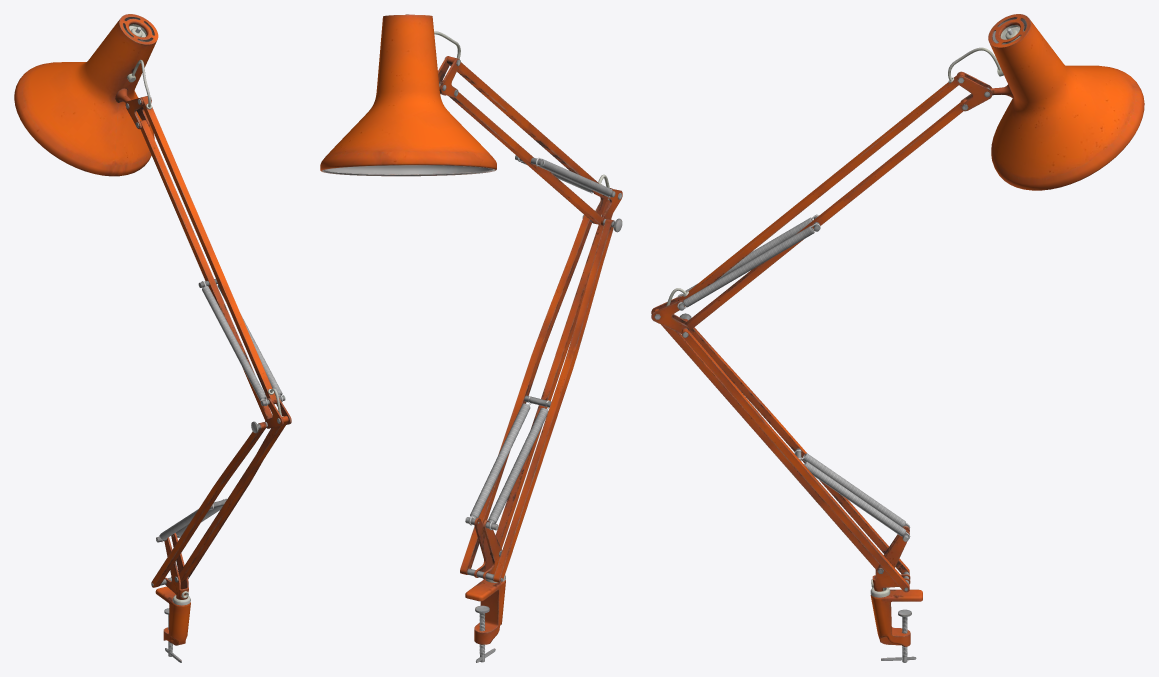
The model's file is desk_lamp_arm_01.gltf.
The picture shows the model from 3 angles, left to right: view 1: azimuth 30°, elevation 25°; view 2: azimuth 150°, elevation 25°; view 3: azimuth 270°, elevation 25°; orthographic projection. The views are drawn at different scales.
Parts seen in each view (by area): view 1: desk_lamp_arm_01; view 2: desk_lamp_arm_01; view 3: desk_lamp_arm_01.
Boxes of the visible parts, bbox=[...] form: desk_lamp_arm_01: bbox=[14, 14, 291, 662]; desk_lamp_arm_01: bbox=[320, 14, 622, 662]; desk_lamp_arm_01: bbox=[651, 14, 1144, 662].
Bounding box in the file's own units: 0.2017 × 0.8926 × 0.6139.
Materials: 2 (2 with a texture image).
